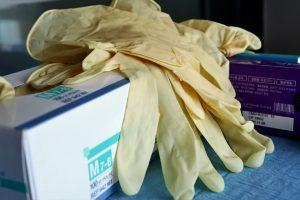gloves: (27, 0, 276, 200)
